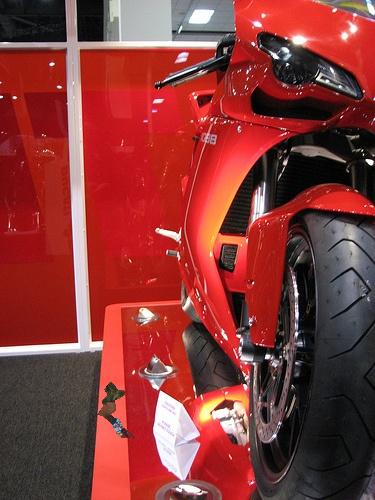tampered: (98, 383, 136, 438)
